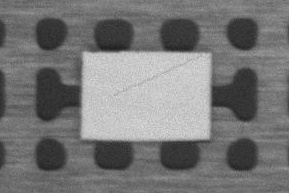DIE_CRACK: (171, 37, 289, 63)
